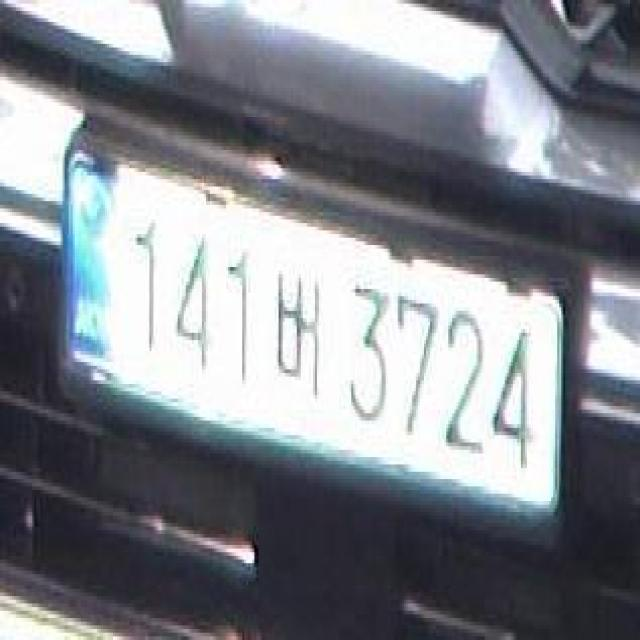illegal_plate: (59, 133, 570, 537)
